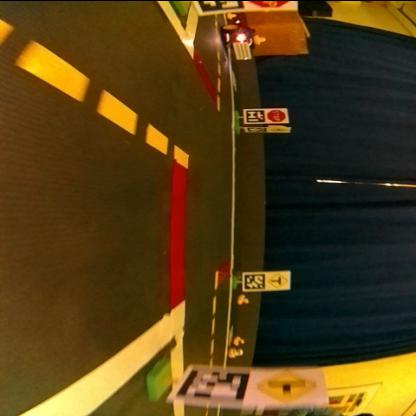Duckie: (230, 348, 242, 357), (255, 34, 266, 43), (234, 336, 244, 344), (240, 294, 248, 303)
Duckiebot: (223, 18, 253, 58)
Intersection sign: (258, 368, 317, 400), (268, 271, 289, 287), (270, 126, 288, 132)
QR code: (180, 366, 250, 402), (245, 272, 266, 288), (247, 108, 266, 121), (229, 324, 236, 344), (248, 126, 267, 132)
Stop sign: (269, 108, 287, 121)
